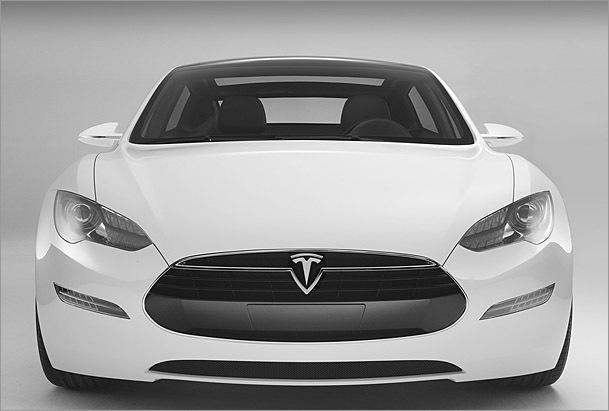car: (31, 52, 574, 402)
